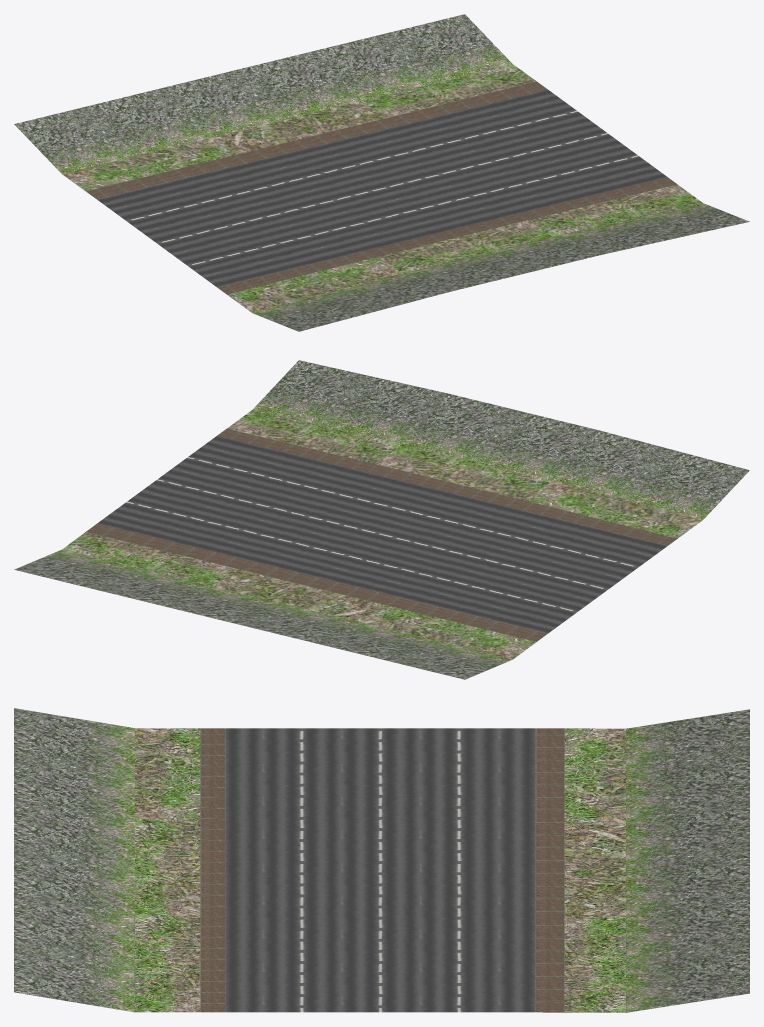
File: Arena.fbx
The picture shows the model from 3 angles, top to bottom: view 1: azimuth 30°, elevation 25°; view 2: azimuth 150°, elevation 25°; view 3: azimuth 270°, elevation 25°; orthographic projection. The views are drawn at different scales.
Parts seen in each view (by area): view 1: Arena; view 2: Arena; view 3: Arena.
Boxes of the visible parts, left/top/right/bottom form: Arena: left=14, top=14, right=749, bottom=331; Arena: left=14, top=360, right=749, bottom=679; Arena: left=14, top=708, right=749, bottom=1012.
Size of the model in its own units: 100 by 4.03 by 109.
